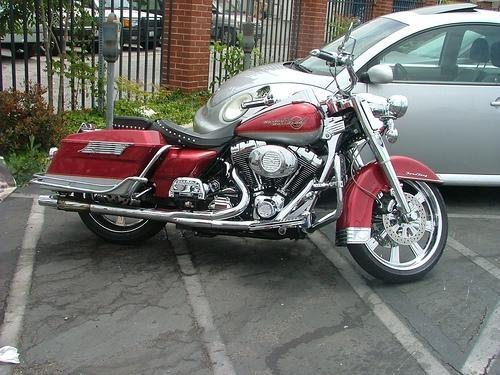car: (189, 5, 500, 184), (0, 3, 103, 58), (106, 8, 164, 52), (212, 3, 264, 49)
motorcycle: (35, 22, 450, 278)
